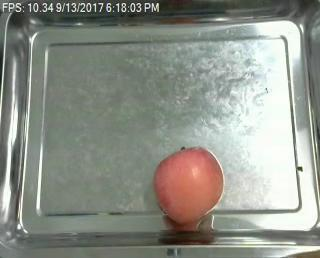apple: (153, 145, 224, 223)
